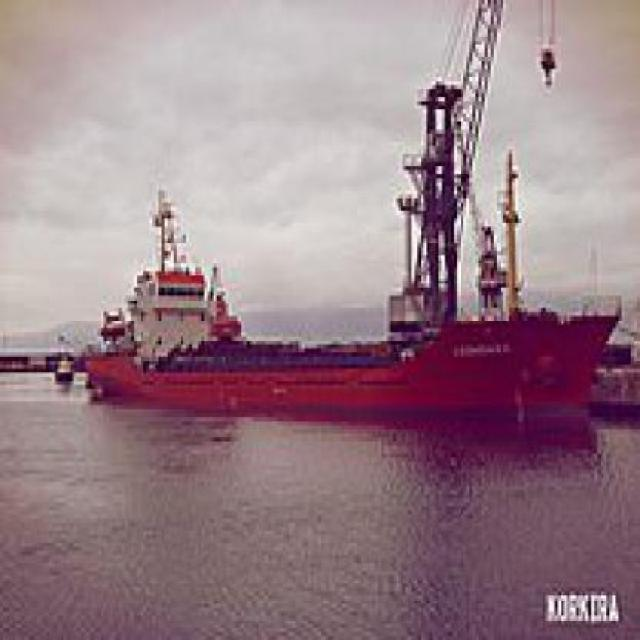container: (68, 57, 629, 439)
